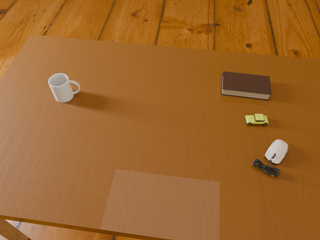book: (221, 72, 271, 100)
cup: (48, 74, 80, 102)
mouse: (265, 140, 288, 164)
toy_car: (245, 114, 268, 125)
